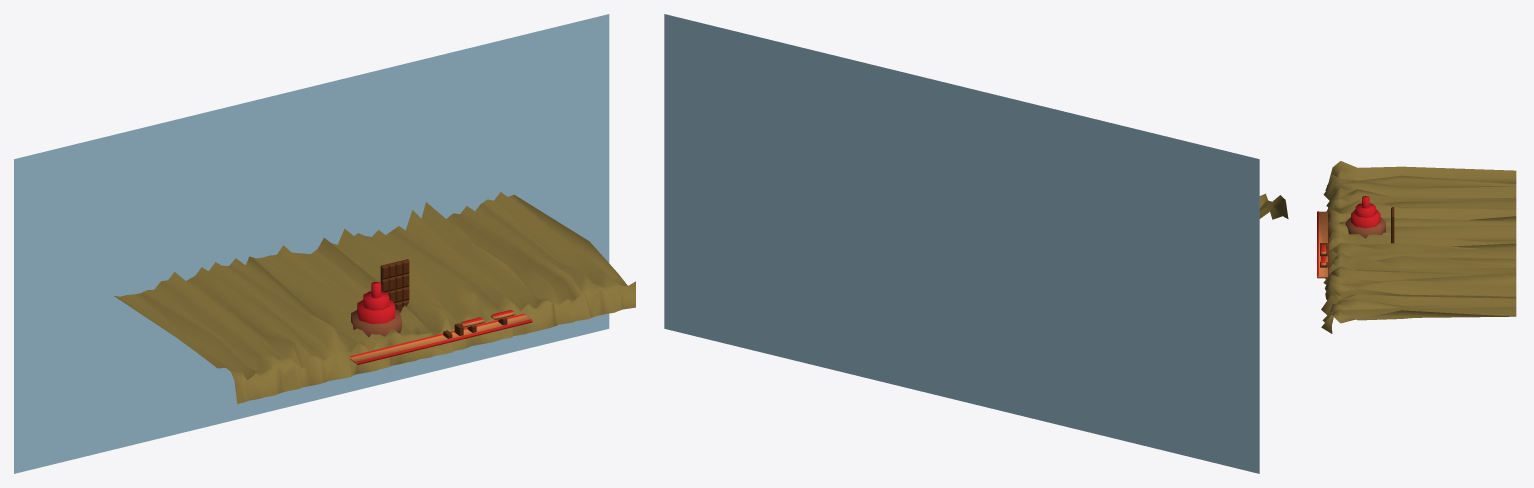
The model's file is background.fbx.
3 views of the same model, side by side, from view 1: azimuth 30°, elevation 25°; view 2: azimuth 150°, elevation 25°; view 3: azimuth 270°, elevation 25° (orthographic). The views are drawn at different scales.
Parts seen in each view (by area): view 1: Plane.001, Grid, Plane, Cylinder, Cube; view 2: Plane.001; view 3: Grid, Cylinder, Plane.
Boxes of the visible parts, bbox=[...] form: Plane.001: bbox=[14, 14, 609, 473]; Grid: bbox=[114, 192, 635, 403]; Plane: bbox=[350, 313, 532, 364]; Cylinder: bbox=[351, 282, 401, 337]; Cube: bbox=[380, 259, 409, 312]; Plane.001: bbox=[664, 14, 1259, 473]; Grid: bbox=[1321, 161, 1516, 333]; Cylinder: bbox=[1345, 196, 1385, 238]; Plane: bbox=[1317, 211, 1328, 278].
Size of the model in its own units: 118 by 45.67 by 59.47.
